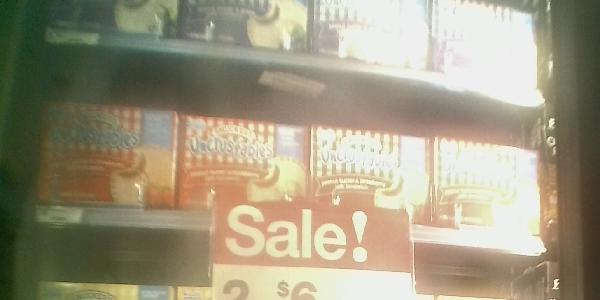icecream: (40, 94, 177, 214), (174, 109, 309, 226), (308, 119, 429, 229), (431, 131, 548, 235)
